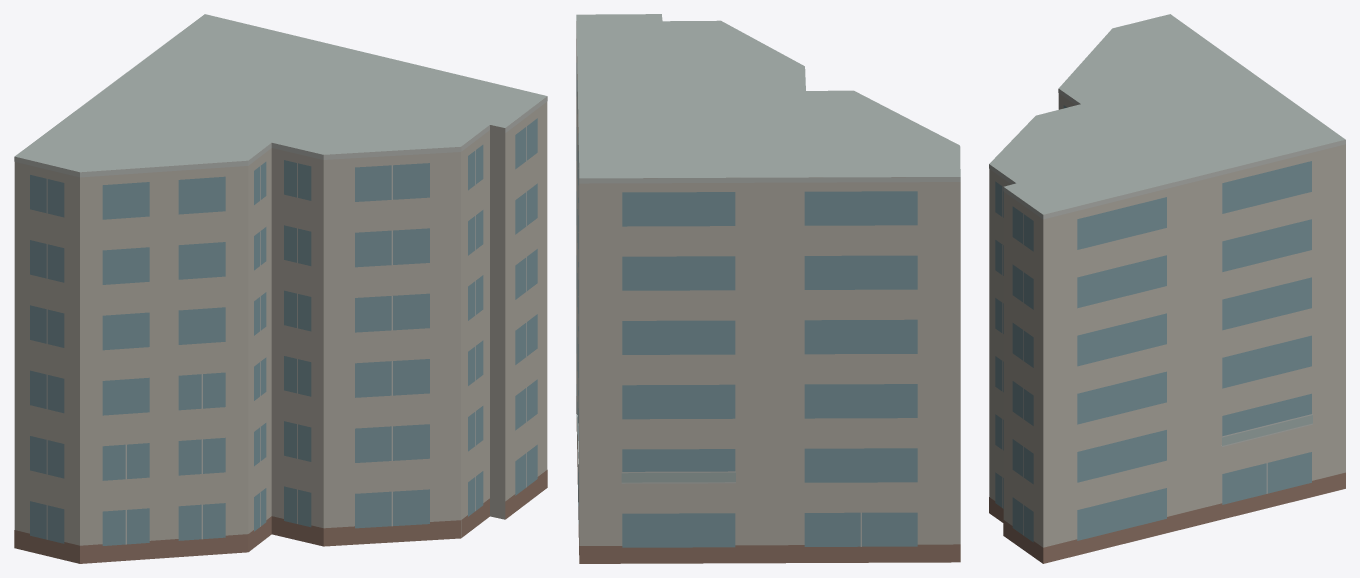
The model's file is survey-upis-33045340.glb.
3 views of the same model, side by side, from view 1: azimuth 30°, elevation 25°; view 2: azimuth 150°, elevation 25°; view 3: azimuth 270°, elevation 25° (orthographic). The views are drawn at different scales.
Parts seen in each view (by area): view 1: survey-upis-33045340.tmp; view 2: survey-upis-33045340.tmp; view 3: survey-upis-33045340.tmp.
Boxes of the visible parts, <box> form: survey-upis-33045340.tmp: <box>14,14,547,563</box>; survey-upis-33045340.tmp: <box>576,14,960,563</box>; survey-upis-33045340.tmp: <box>989,14,1345,563</box>.
Bounding box in the file's own units: 22.58 × 18.3 × 16.96.
